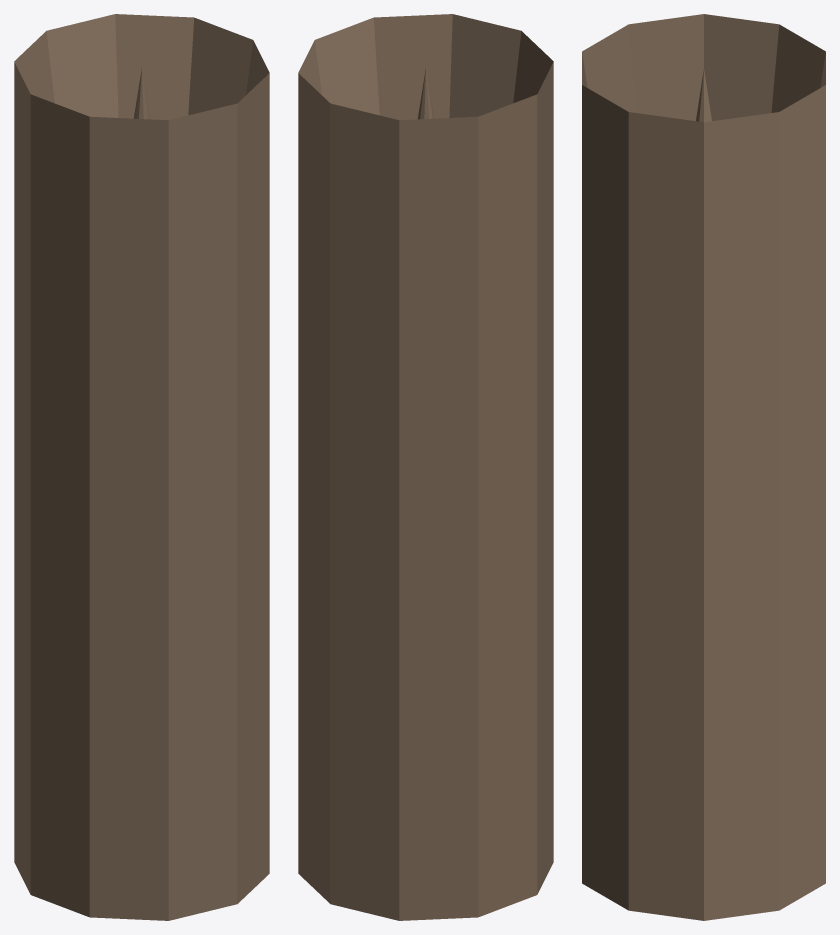
File: cyl_trunk.gltf
3 views of the same model, side by side, from view 1: azimuth 30°, elevation 25°; view 2: azimuth 150°, elevation 25°; view 3: azimuth 270°, elevation 25° (orthographic).
Visible parts, largest first — view 1: mesh; view 2: mesh; view 3: mesh.
Boxes of the visible parts, bbox=[...] form: mesh: bbox=[14, 14, 269, 920]; mesh: bbox=[298, 14, 553, 920]; mesh: bbox=[582, 14, 825, 920].
Bounding box in the file's own units: 0.32 × 1.1 × 0.3043.
